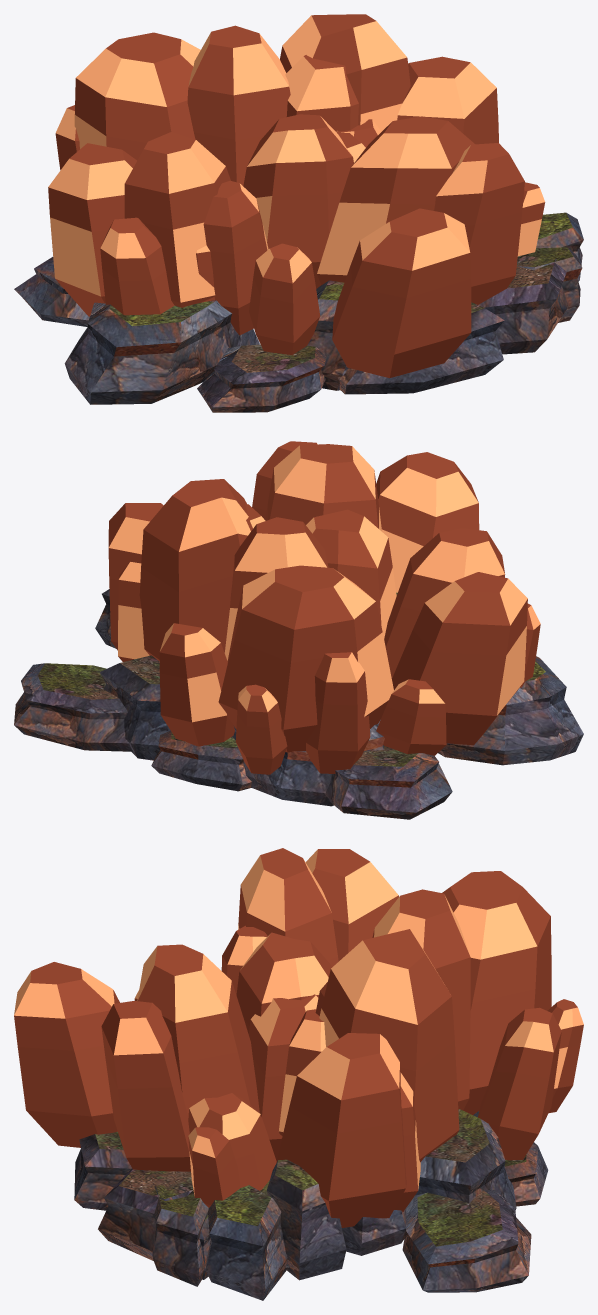
Rendered from native_copper.glb.
3 views of the same model, one above another, from view 1: azimuth 30°, elevation 25°; view 2: azimuth 150°, elevation 25°; view 3: azimuth 270°, elevation 25° (orthographic). The views are drawn at different scales.
Visible parts, largest first — view 1: native_copper; view 2: native_copper; view 3: native_copper.
Boxes of the visible parts, left/top/right/bottom form: native_copper: left=14, top=14, right=583, bottom=412; native_copper: left=14, top=441, right=583, bottom=819; native_copper: left=14, top=848, right=583, bottom=1300.
Bounding box in the file's own units: 2.05 × 0.997 × 1.87.
Materials: 6 (3 with a texture image).
